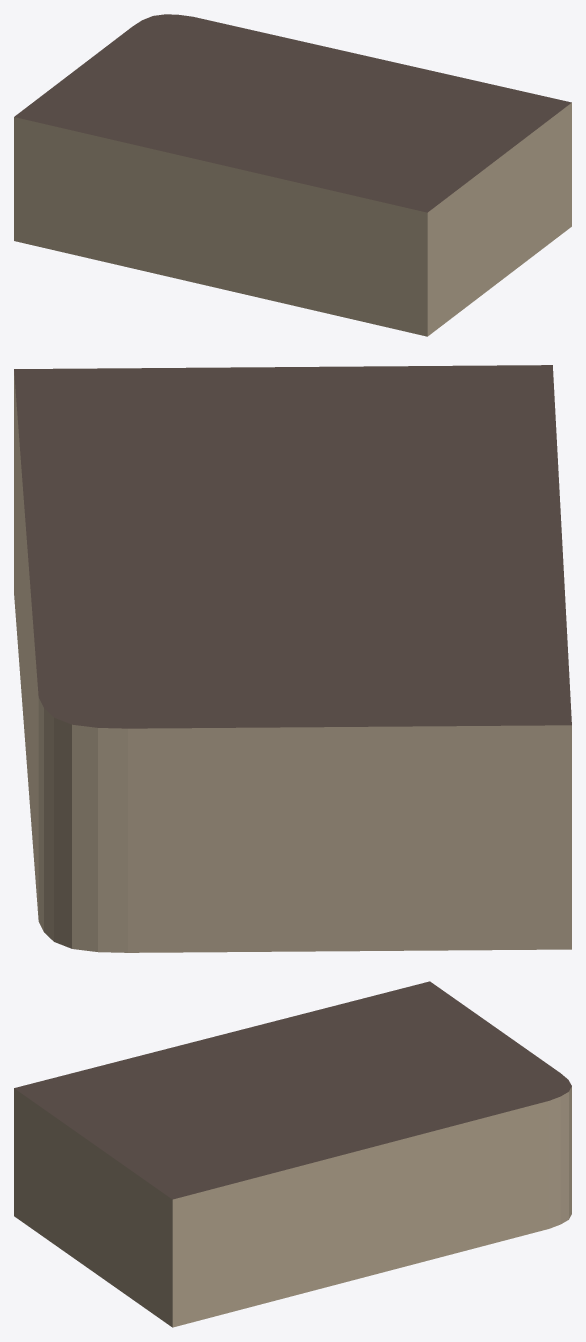
3 renders of one model, top to bottom at view 1: azimuth 30°, elevation 25°; view 2: azimuth 150°, elevation 25°; view 3: azimuth 270°, elevation 25°, orthographic. The views are drawn at different scales.
Parts seen in each view (by area): view 1: HP-w369237903; view 2: HP-w369237903; view 3: HP-w369237903.
Part boxes in pixels (x1=…): HP-w369237903: x1=14, y1=14, x2=571, y2=336; HP-w369237903: x1=14, y1=365, x2=571, y2=952; HP-w369237903: x1=14, y1=981, x2=571, y2=1327.
Size of the model in its own units: 32.9 by 9 by 35.55.
